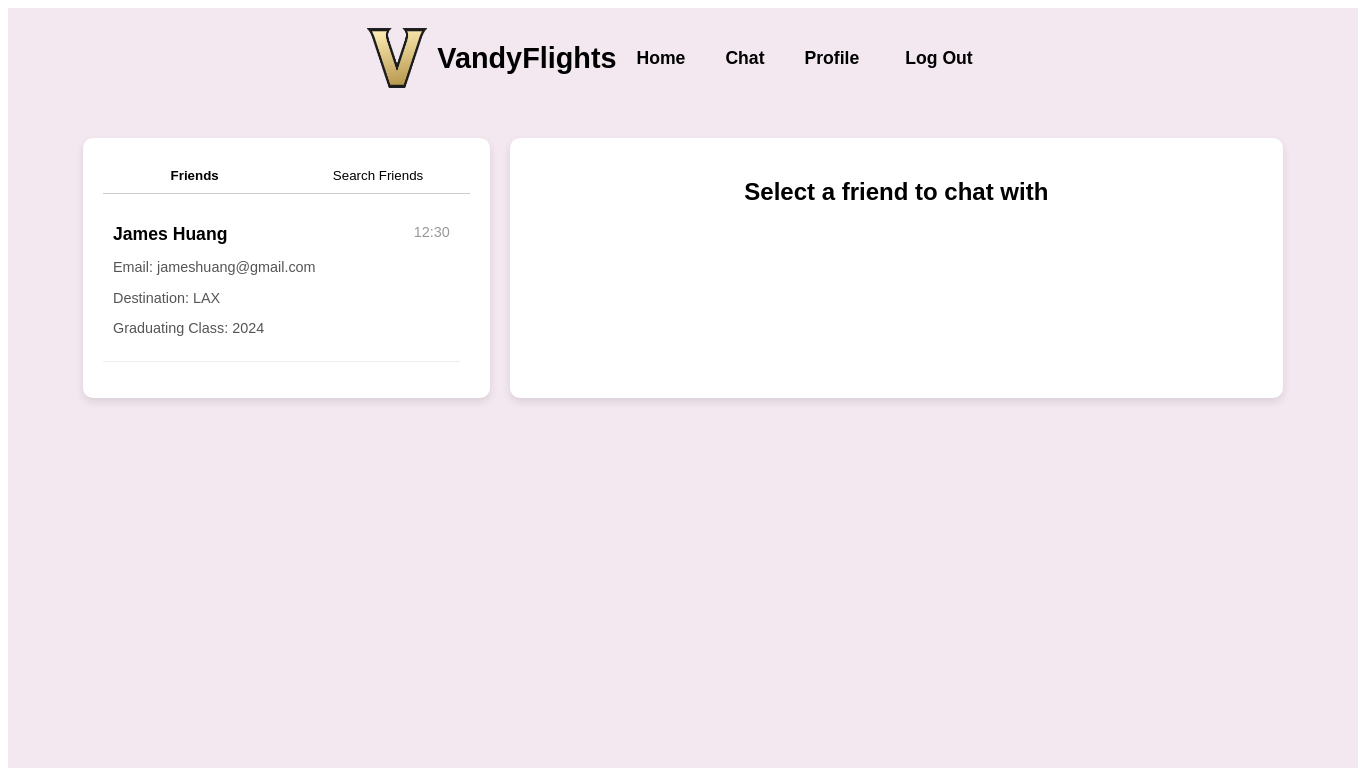
Test case: ChatPage › switches to search friends tab and displays search input
Click the button "Search Friends" at (378,176), box [286, 158, 470, 193]
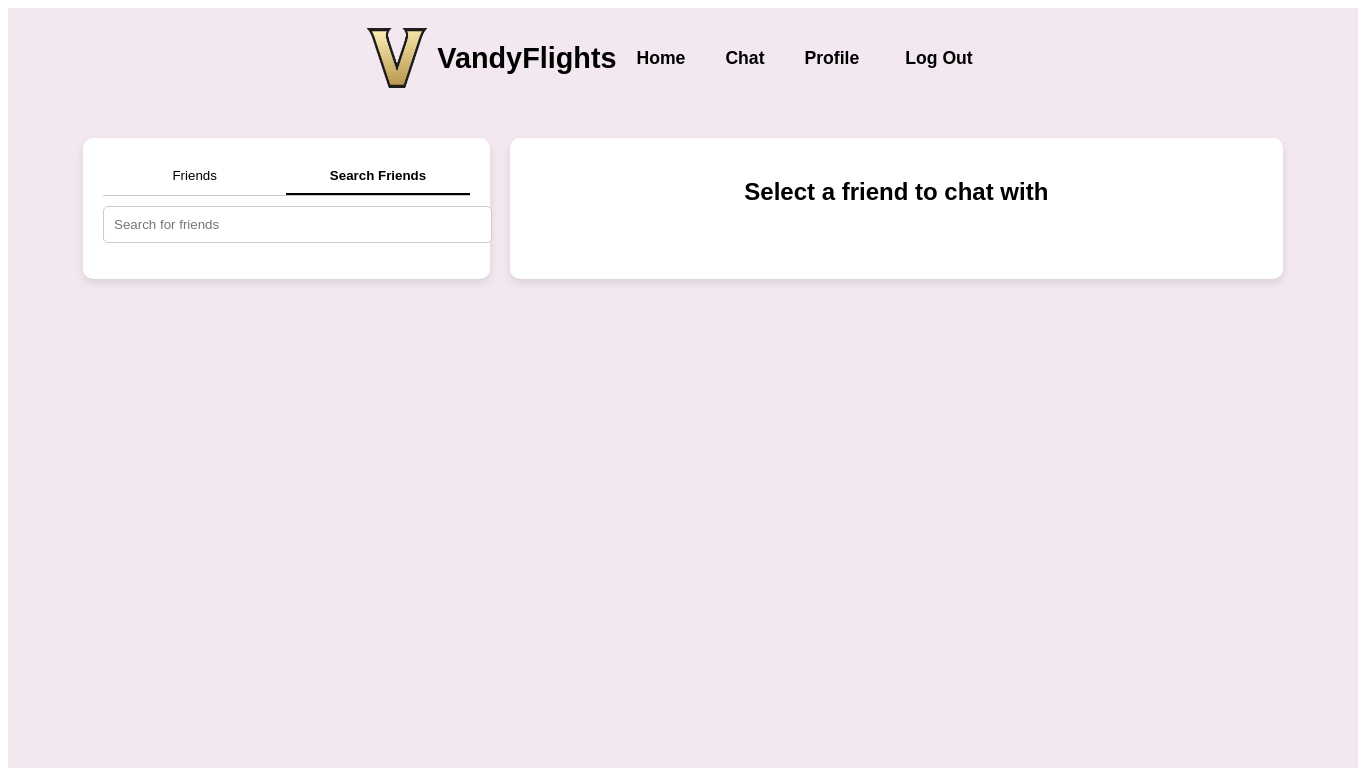
Check: the field with placeholder "Search for friends" is shown, box [103, 206, 492, 243]
